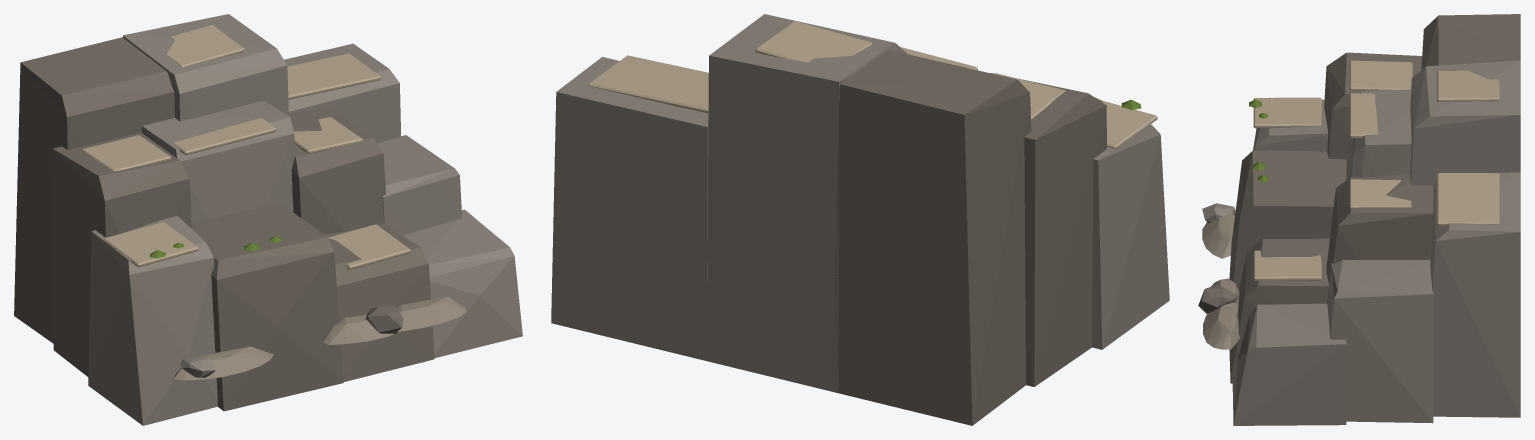
Rendered from Strata_Shoulder.fbx.
The picture shows the model from 3 angles, left to right: view 1: azimuth 30°, elevation 25°; view 2: azimuth 150°, elevation 25°; view 3: azimuth 270°, elevation 25°; orthographic projection. The views are drawn at different scales.
Visible parts, largest first — view 1: CliffDark, Cliff, RockLight, Gravel; view 2: Cliff, CliffDark, RockLight; view 3: Cliff, CliffDark, RockLight, Gravel.
Part boxes in pixels (box(x1,y1,x2,y2)): CliffDark: box(14, 37, 434, 411); Cliff: box(88, 14, 522, 425); RockLight: box(81, 25, 410, 269); Gravel: box(174, 296, 466, 380); Cliff: box(551, 14, 1169, 393); CliffDark: box(832, 50, 1106, 425); RockLight: box(588, 21, 1157, 148); Cliff: box(1202, 60, 1520, 425); CliffDark: box(1198, 14, 1520, 383); RockLight: box(1253, 60, 1499, 280); Gravel: box(1202, 212, 1240, 349).
Size of the model in its own units: 24.37 by 15.57 by 18.47.
